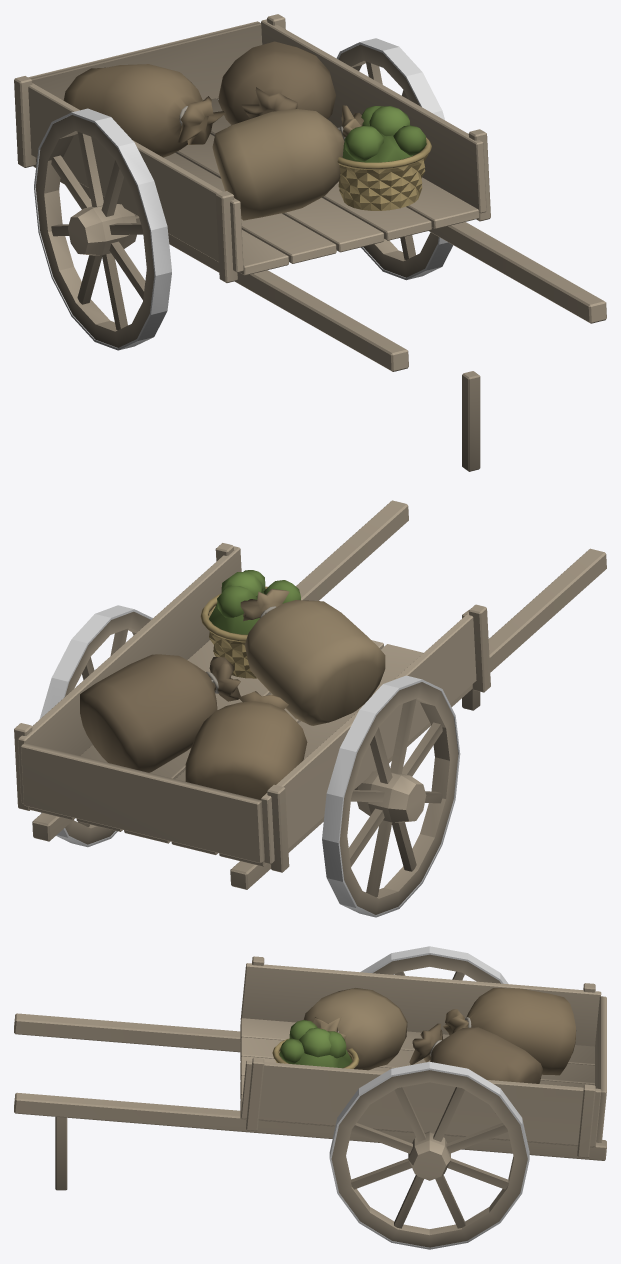
Rendered from handcart.glb.
The picture shows the model from 3 angles, top to bottom: view 1: azimuth 30°, elevation 25°; view 2: azimuth 150°, elevation 25°; view 3: azimuth 270°, elevation 25°; orthographic projection. The views are drawn at different scales.
Parts seen in each view (by area): view 1: handcart; view 2: handcart; view 3: handcart.
Boxes of the visible parts, left/top/right/bottom form: handcart: left=14, top=14, right=606, bottom=471; handcart: left=14, top=500, right=606, bottom=917; handcart: left=14, top=946, right=606, bottom=1249.
Size of what is drawn, in the model's own units: 1.35 by 0.8749 by 2.5.
